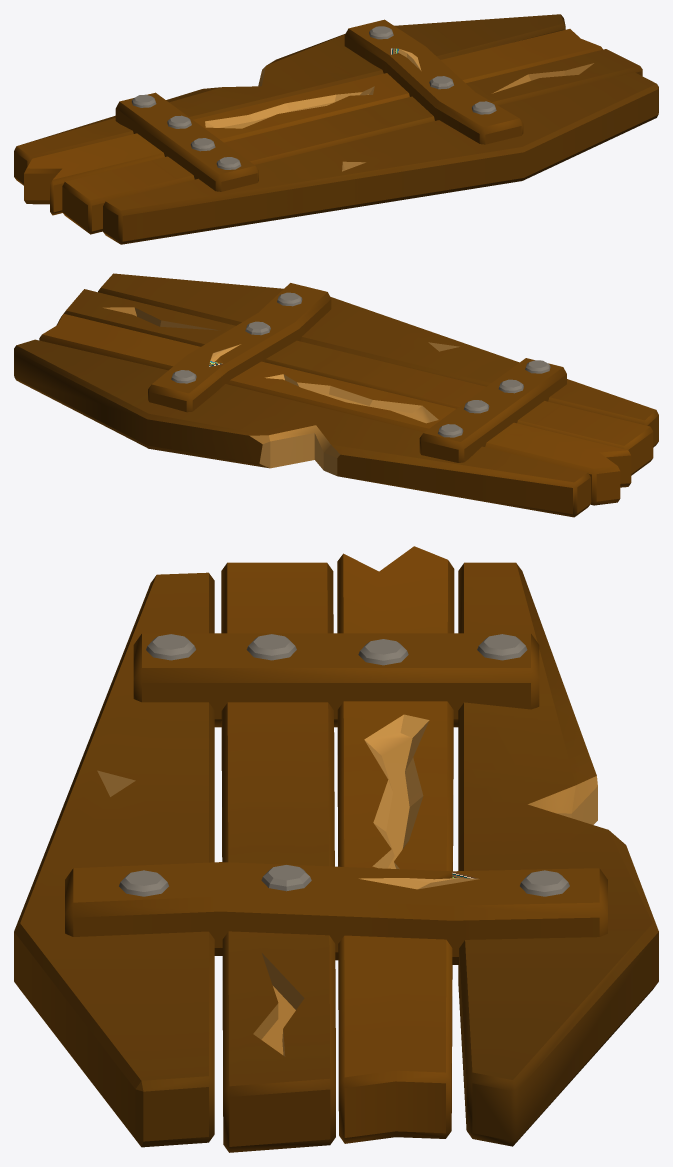
File: Cofin_Lid_1_3.obj
The picture shows the model from 3 angles, top to bottom: view 1: azimuth 30°, elevation 25°; view 2: azimuth 150°, elevation 25°; view 3: azimuth 270°, elevation 25°; orthographic projection. The views are drawn at different scales.
Visible parts, largest first — view 1: Cofin_Lid_1_3; view 2: Cofin_Lid_1_3; view 3: Cofin_Lid_1_3.
Part boxes in pixels (<box>): Cofin_Lid_1_3: <box>14,14,658,244</box>; Cofin_Lid_1_3: <box>14,273,658,517</box>; Cofin_Lid_1_3: <box>14,546,658,1152</box>.
Size of the model in its own units: 1.38 by 0.1265 by 0.6911.
